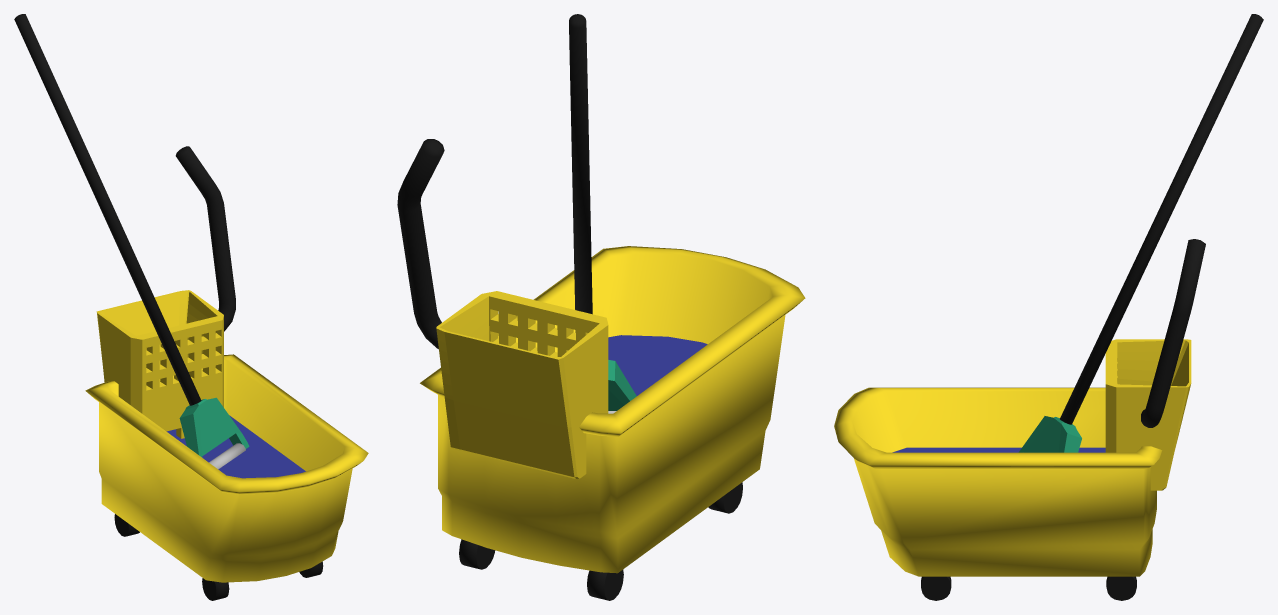
Rendered from MopBucket.fbx.
The picture shows the model from 3 angles, left to right: view 1: azimuth 30°, elevation 25°; view 2: azimuth 150°, elevation 25°; view 3: azimuth 270°, elevation 25°; orthographic projection. The views are drawn at different scales.
Parts seen in each view (by area): view 1: Cube; view 2: Cube; view 3: Cube.
Part boxes in pixels (x1=…): Cube: x1=14, y1=14, x2=368, y2=600; Cube: x1=397, y1=14, x2=805, y2=600; Cube: x1=834, y1=14, x2=1263, y2=600.
Size of the model in its own units: 157 by 422 by 320.
